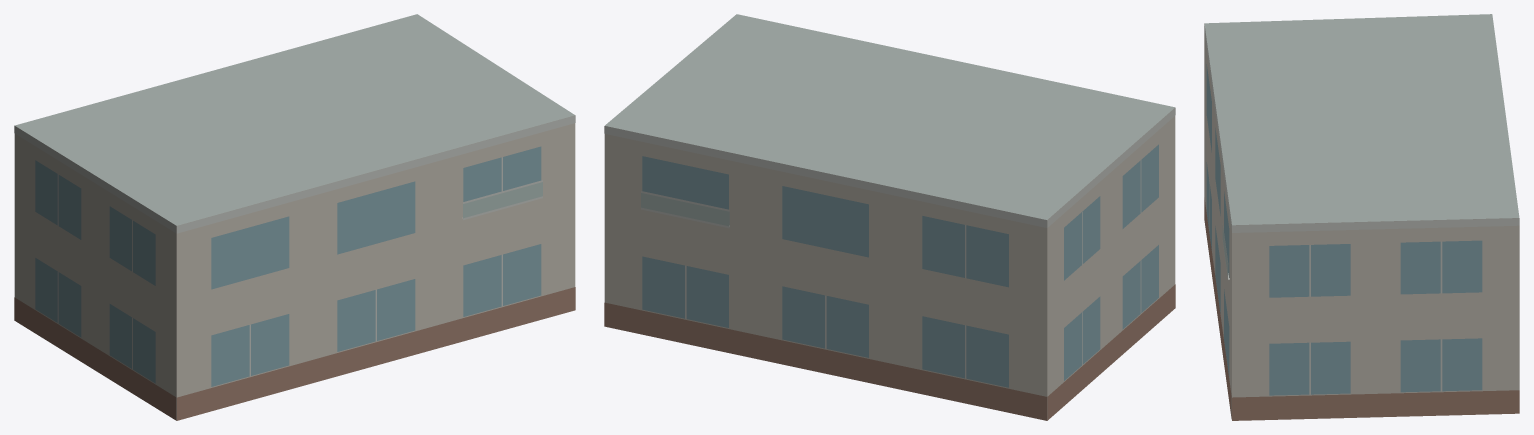
Rendered from survey-upis-32925658.glb.
The picture shows the model from 3 angles, left to right: view 1: azimuth 30°, elevation 25°; view 2: azimuth 150°, elevation 25°; view 3: azimuth 270°, elevation 25°; orthographic projection. The views are drawn at different scales.
Visible parts, largest first — view 1: survey-upis-32925658.tmp; view 2: survey-upis-32925658.tmp; view 3: survey-upis-32925658.tmp.
Part boxes in pixels (x1=…): survey-upis-32925658.tmp: x1=14, y1=14, x2=575, y2=420; survey-upis-32925658.tmp: x1=604, y1=14, x2=1175, y2=420; survey-upis-32925658.tmp: x1=1204, y1=14, x2=1519, y2=420.
Size of the model in its own units: 14.13 by 6.1 by 8.91.
